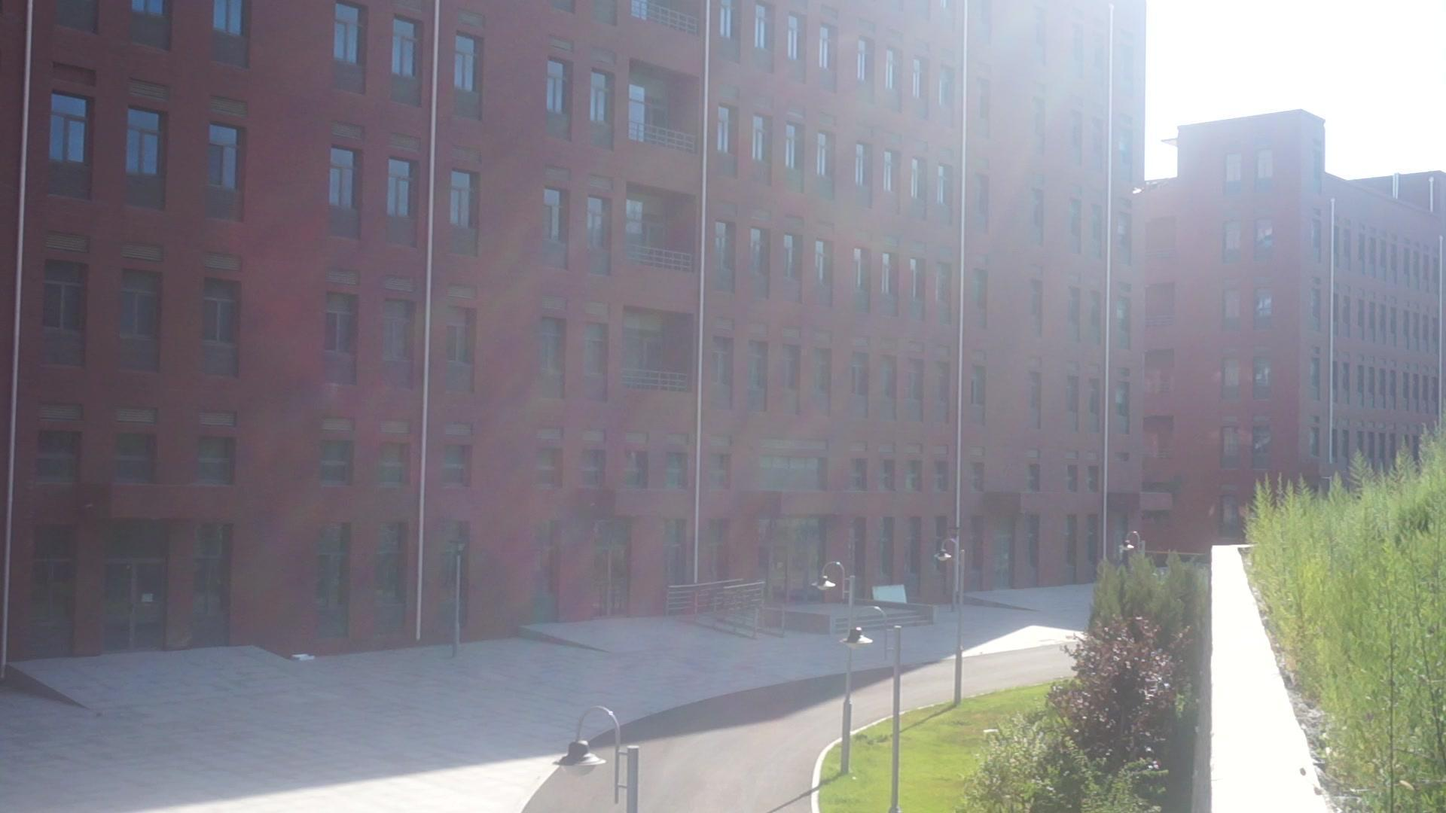UAV: (1133, 178, 1172, 195)
